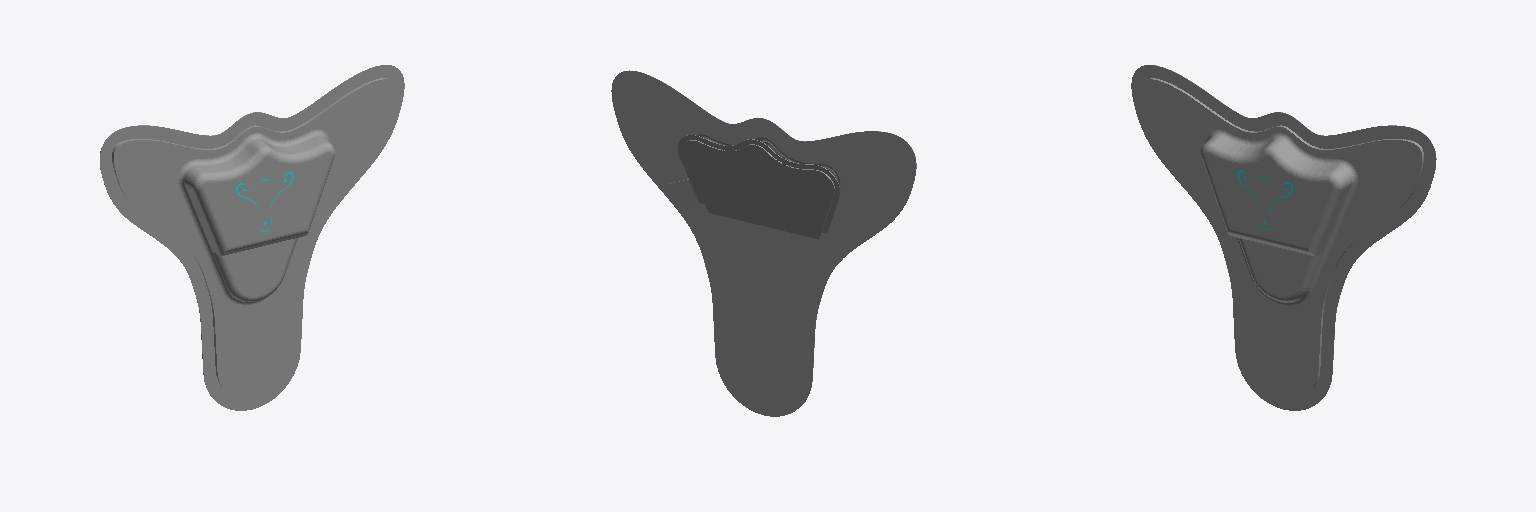
3 views of the same model, side by side, from view 1: azimuth 30°, elevation 25°; view 2: azimuth 150°, elevation 25°; view 3: azimuth 330°, elevation 25° (orthographic).
Visible parts, largest first — view 1: VS-100-E3; view 2: VS-100-E3; view 3: VS-100-E3.
Part boxes in pixels (x1,y1,x2,y2): VS-100-E3: (100, 65, 404, 410); VS-100-E3: (611, 70, 916, 416); VS-100-E3: (1131, 65, 1436, 410).
Bounding box in the file's own units: 1.25 × 1.23 × 0.1779.
2 materials, 1 textured.